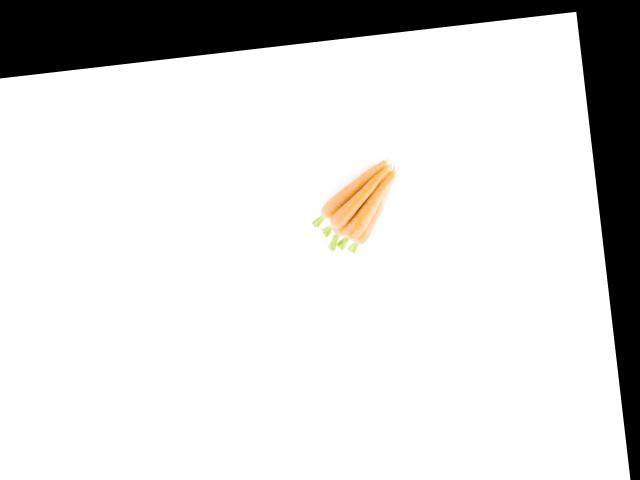carrot: (310, 153, 391, 218)
